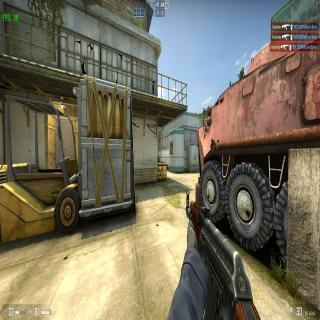CT-Body: (158, 157, 160, 162)
